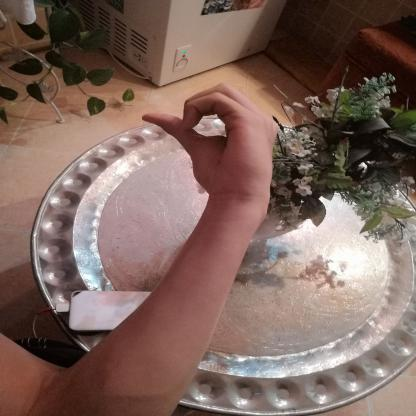WAW: (132, 76, 290, 208)
